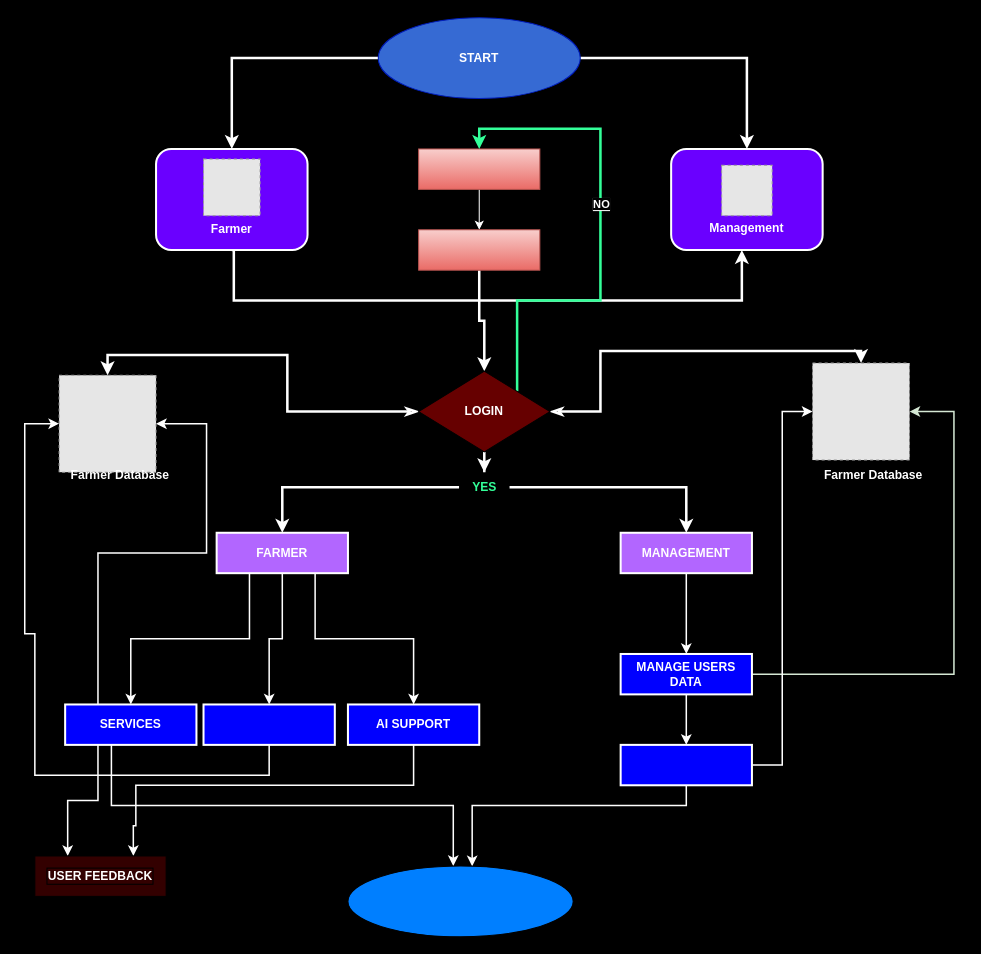
This 981x954 diagram has some shape labels left out. Grey dashed boxes stand in for pictures. The centre of each missing label's shape, as x and y in pixels:
BLOCK/REMOVE SPAMMY USERS: the point at 685,764
EMAIL AUTH: the point at 479,249
LOGOUT: the point at 460,901
REGISTER: the point at 479,168
REGISTORY OF CROPS: the point at 268,724
